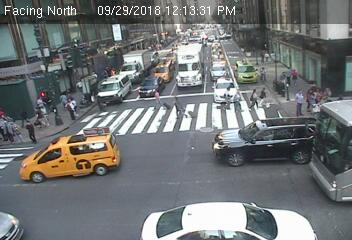car: (140, 202, 317, 240), (21, 131, 121, 177), (211, 119, 313, 164), (313, 102, 352, 201), (175, 44, 205, 87), (97, 74, 132, 105), (119, 50, 155, 80), (1, 208, 24, 240), (212, 79, 241, 103), (233, 60, 260, 85), (139, 74, 163, 98), (154, 59, 174, 85), (209, 64, 230, 81), (211, 48, 226, 67), (207, 34, 216, 42)
